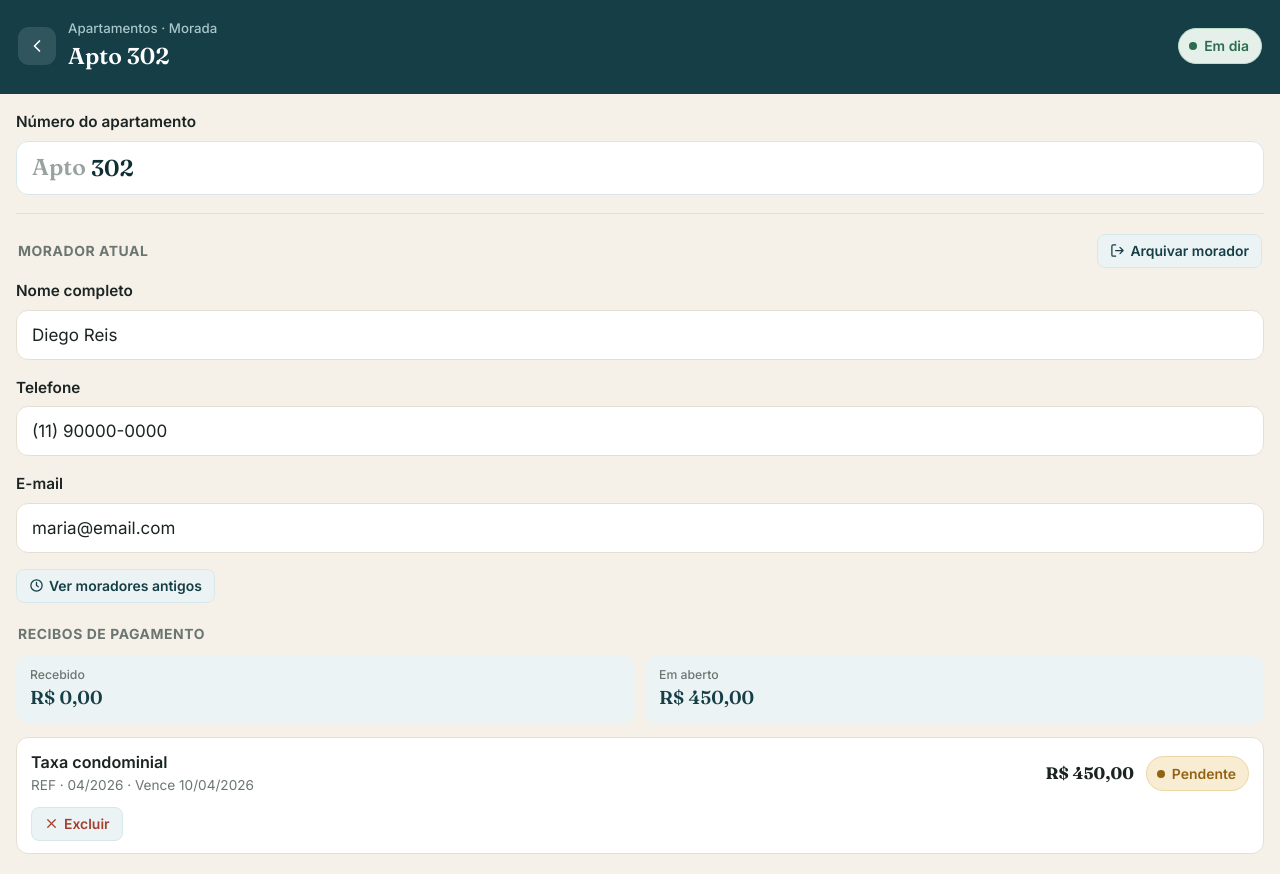
it: ResidentEditScreen › cancelling the receipt delete confirmation does not archive it
The width and height of the screenshot is (1280, 874).
Expected: the text "Taxa condominial" is shown, [31,752,168,772]
Click the button "Excluir" at (77, 824), box [31,806,123,840]
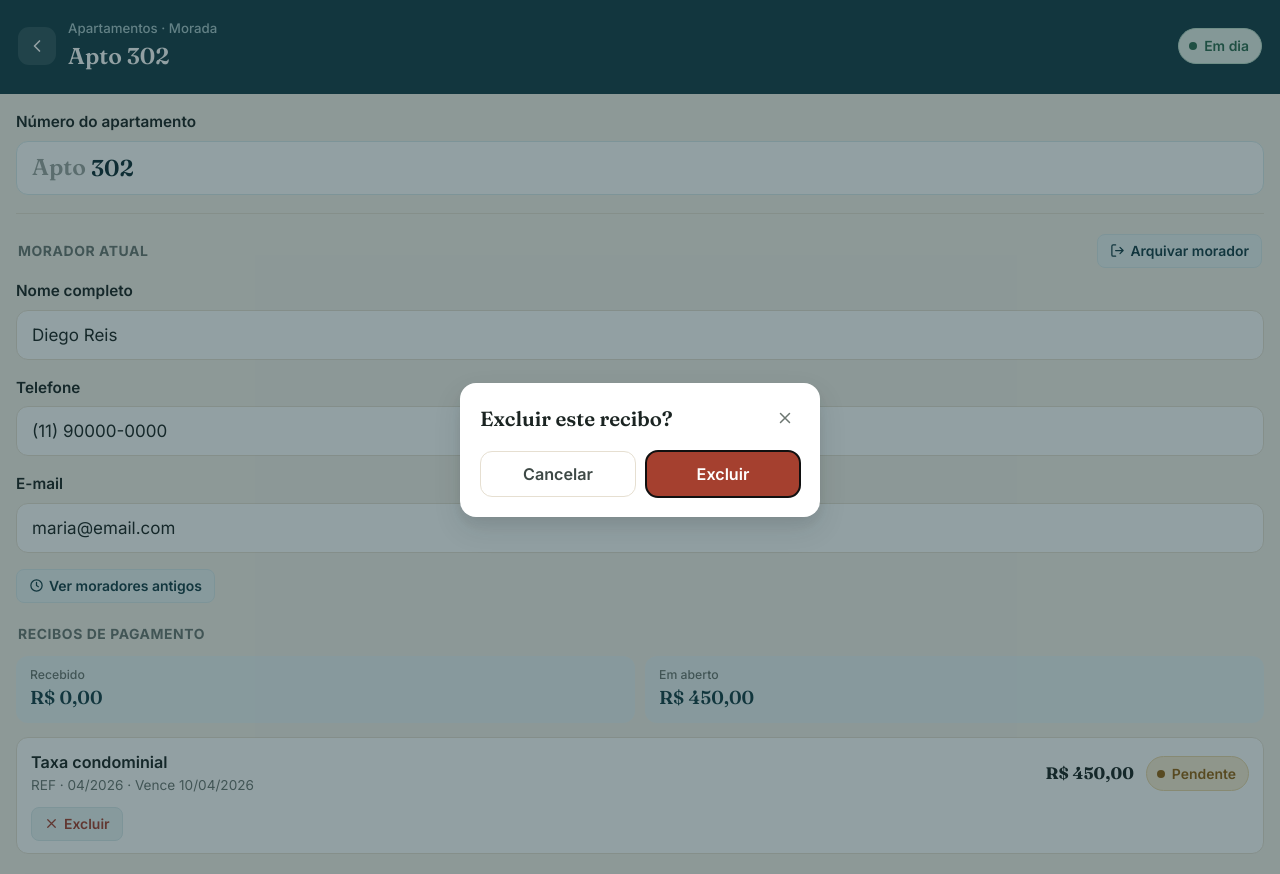
Click the button "Cancelar" at (558, 474), box [480,451,636,497]
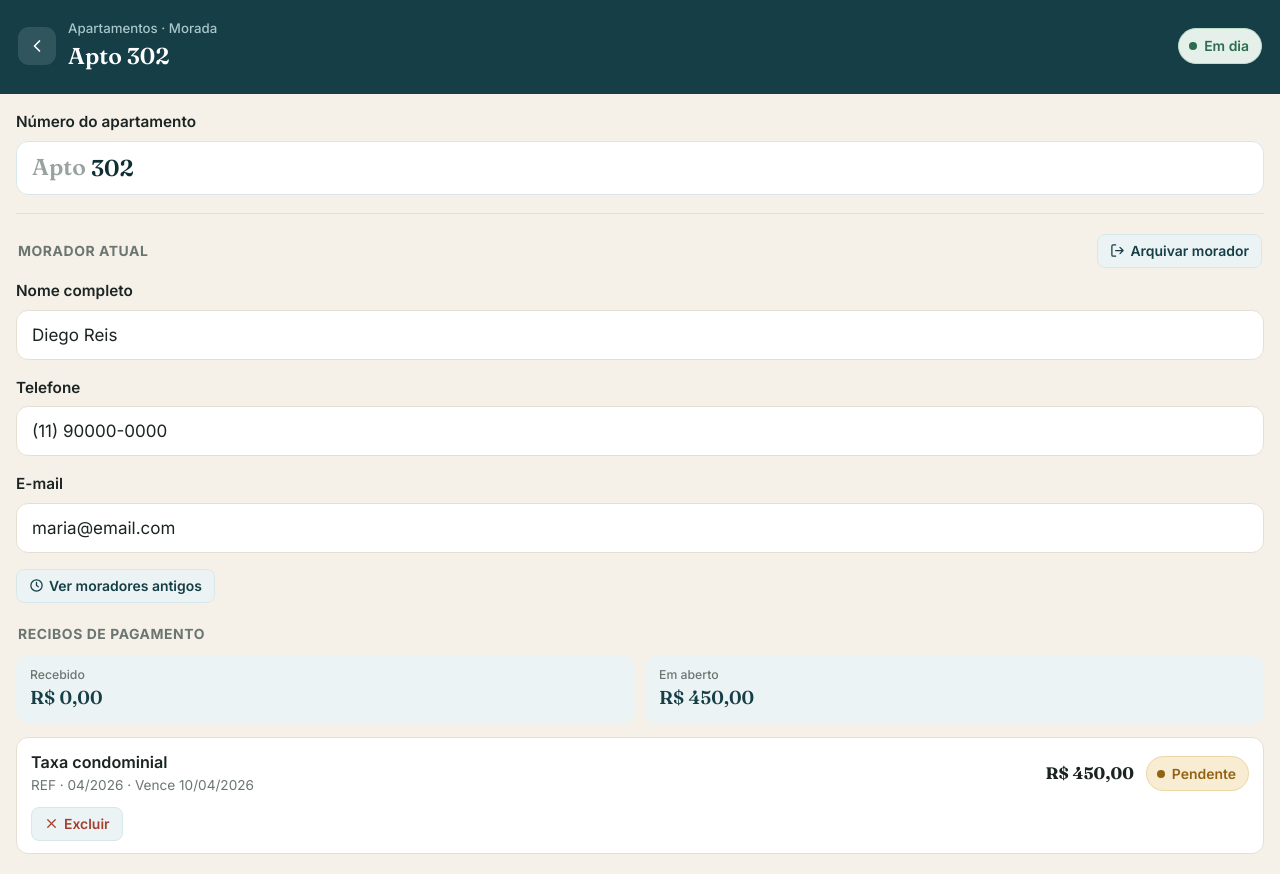
Result: the dialog is gone
